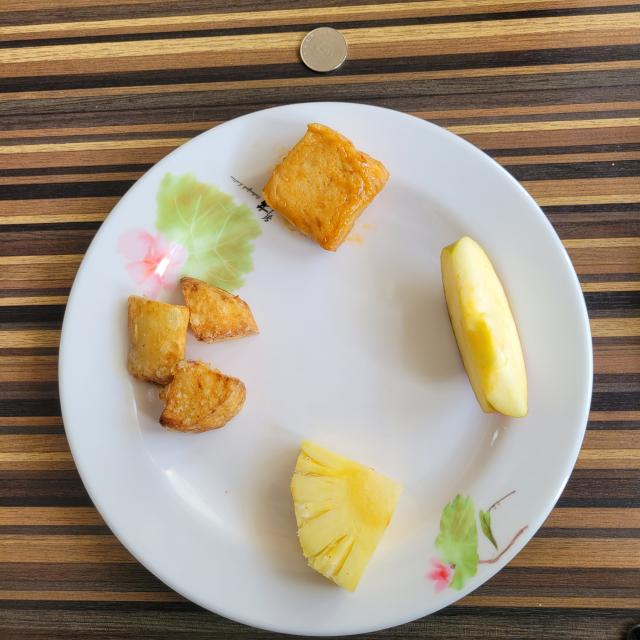apple -sliced-: (441, 236, 528, 418)
coin: (300, 28, 348, 72)
creamy tofu: (262, 124, 389, 251)
fried potato: (128, 278, 259, 432)
pineapple: (291, 440, 404, 592)
